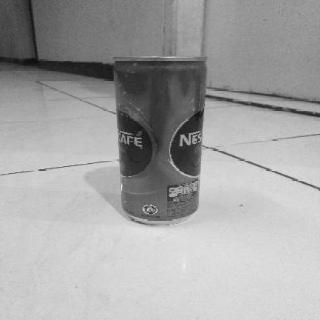alumunium_can: (109, 54, 208, 228)
